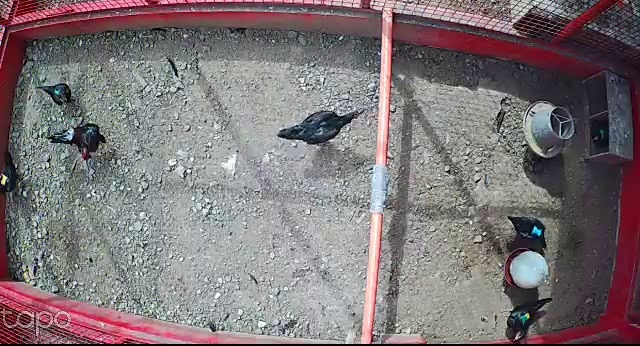Chicken: (275, 107, 364, 148), (505, 297, 552, 344), (505, 215, 551, 250), (35, 81, 77, 108)
Drinker: (502, 248, 551, 290)
Feeder: (521, 100, 575, 159)
Rooster: (43, 123, 111, 161)
Saddle_Color_Blue: (531, 224, 542, 238)
Saddle_Color_Green: (53, 88, 61, 95)
Saddle_Color_YellowGreen: (519, 312, 529, 324)
